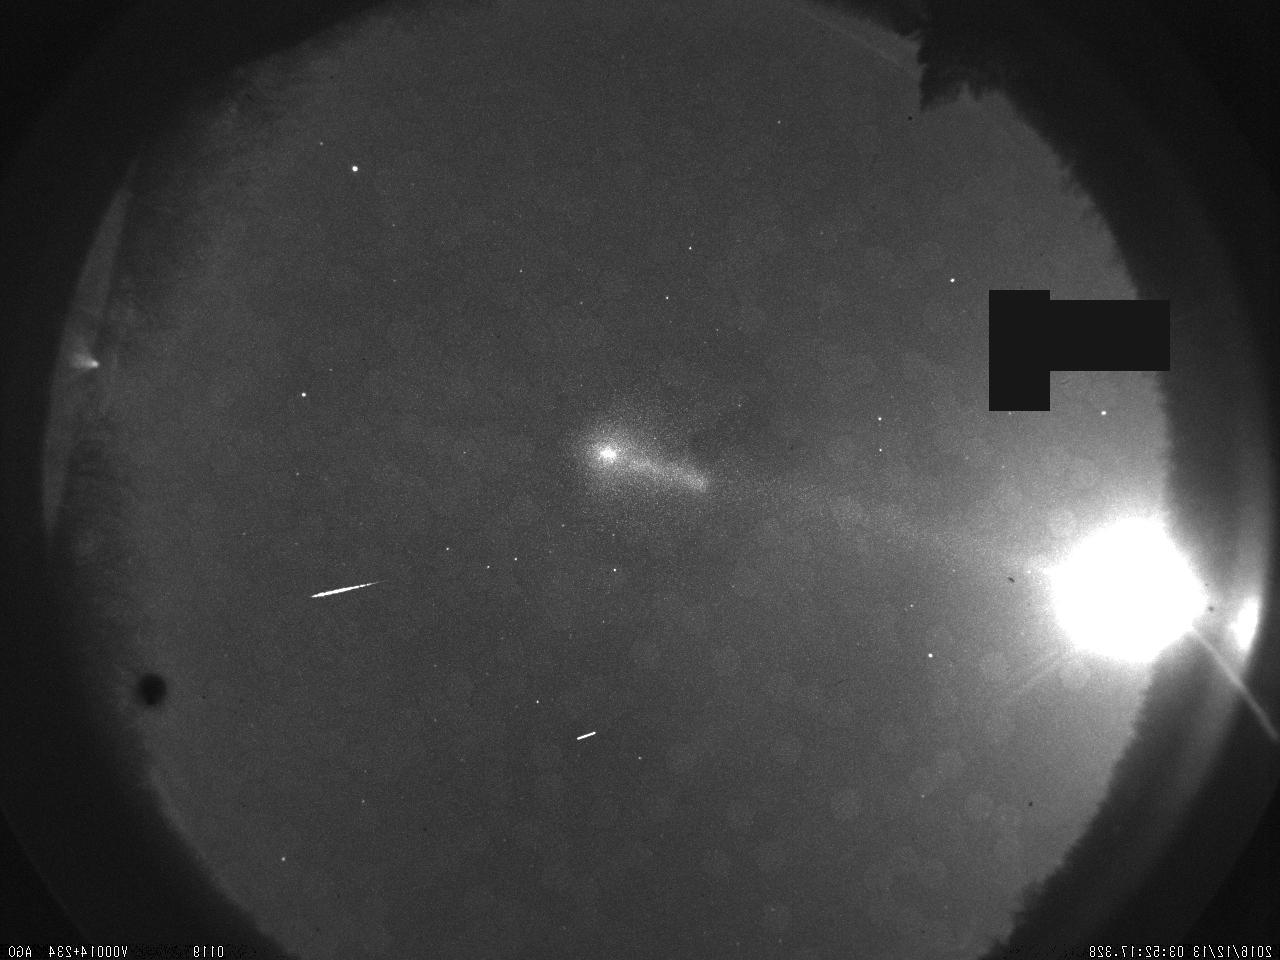meteor: (277, 542, 408, 643), (564, 699, 620, 776)
